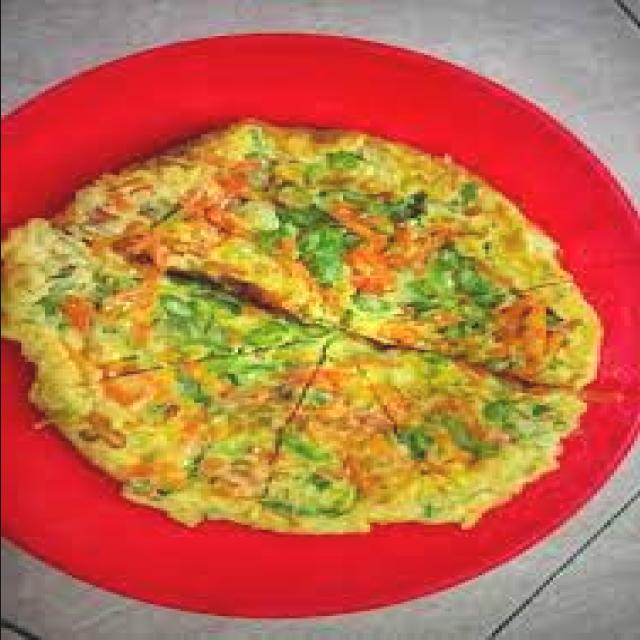telur dadar: (0, 105, 603, 537)
